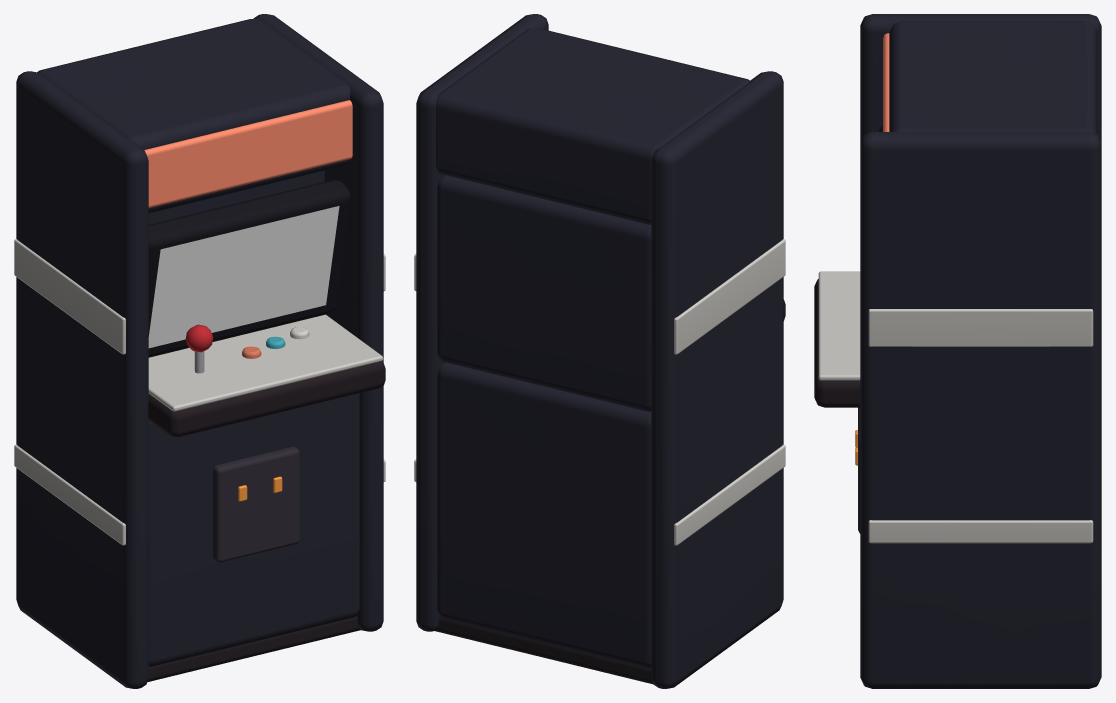
File: furn_cab_sushi.glb
The picture shows the model from 3 angles, left to right: view 1: azimuth 30°, elevation 25°; view 2: azimuth 150°, elevation 25°; view 3: azimuth 270°, elevation 25°; orthographic projection. The views are drawn at different scales.
Visible parts, largest first — view 1: furn_cab_sushi_main, furn_cab_sushi_screen, furn_cab_sushi_glow; view 2: furn_cab_sushi_main; view 3: furn_cab_sushi_main, furn_cab_sushi_glow.
Boxes of the visible parts, <box> form: furn_cab_sushi_main: <box>14,14,385,688</box>; furn_cab_sushi_screen: <box>148,206,339,348</box>; furn_cab_sushi_glow: <box>144,100,352,501</box>; furn_cab_sushi_main: <box>414,14,785,688</box>; furn_cab_sushi_main: <box>814,14,1101,688</box>; furn_cab_sushi_glow: <box>855,33,889,465</box>.
Bounding box in the file's own units: 0.752 × 1.47 × 0.69.
